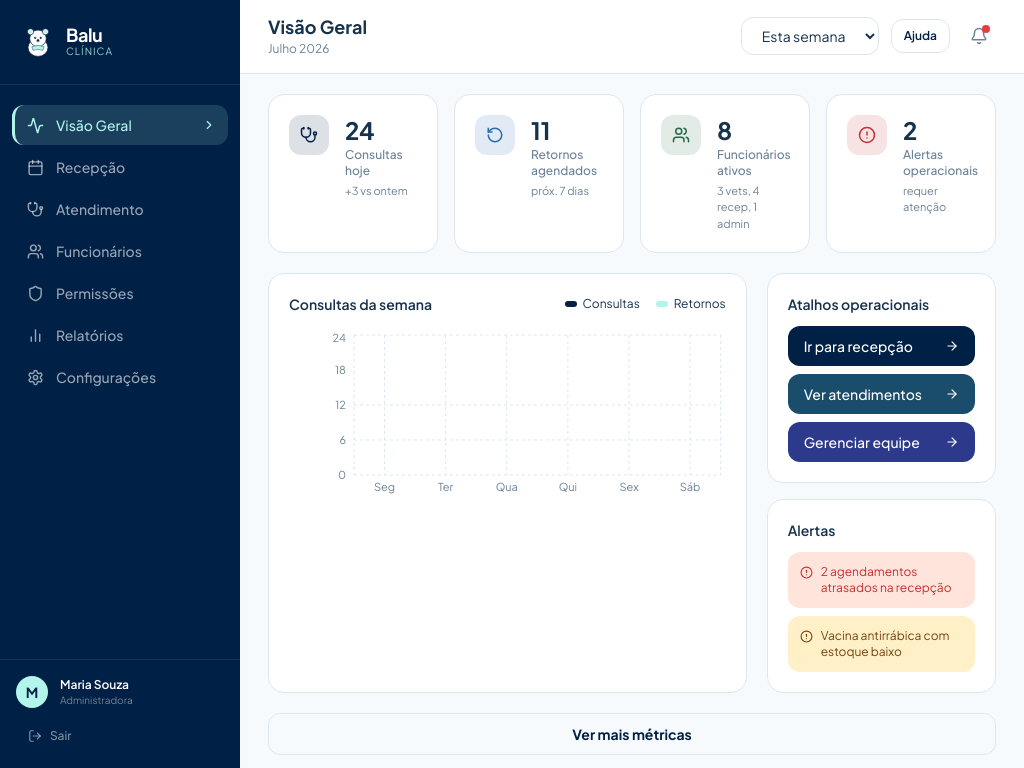
Test: mantém as métricas secundárias recolhidas até o usuário pedir
Expected: the text "desempenho por profissional" is not shown
Click the button "Ver mais métricas". click: (632, 734)
box: [268,713,996,755]
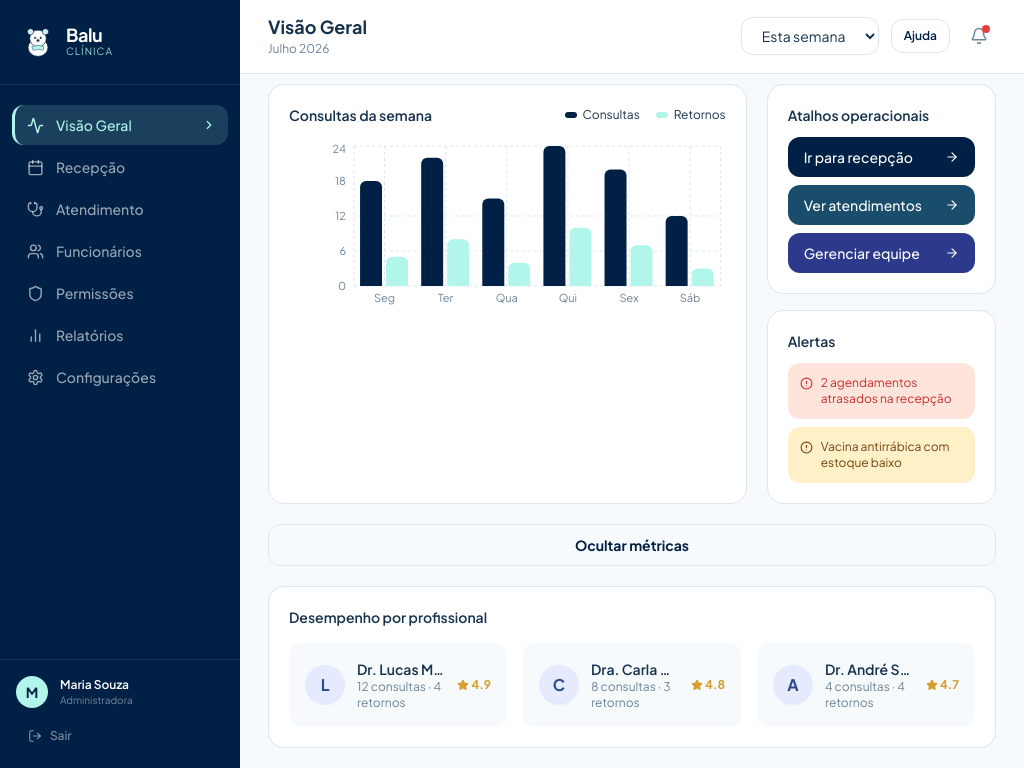
Expected: the heading "Desempenho por profissional" is shown, [289,608,487,626]
